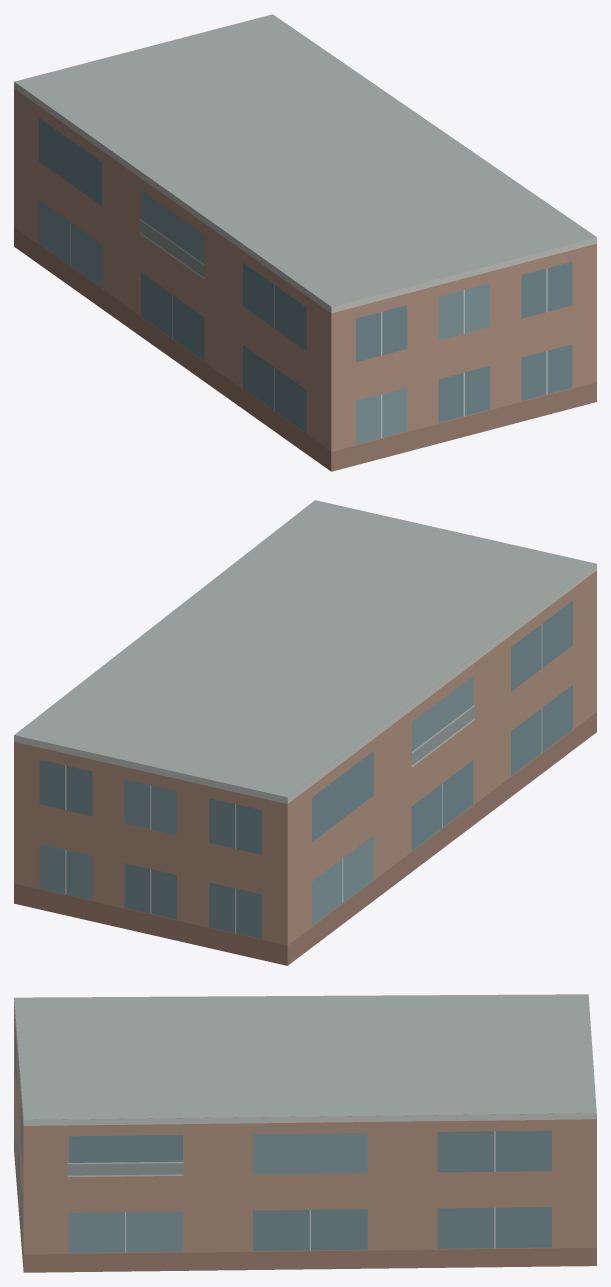
The model's file is survey-upis-32755730.glb.
The picture shows the model from 3 angles, top to bottom: view 1: azimuth 30°, elevation 25°; view 2: azimuth 150°, elevation 25°; view 3: azimuth 270°, elevation 25°; orthographic projection. The views are drawn at different scales.
Parts seen in each view (by area): view 1: survey-upis-32755730.tmp; view 2: survey-upis-32755730.tmp; view 3: survey-upis-32755730.tmp.
Part boxes in pixels (x1,y1,x2,y2): survey-upis-32755730.tmp: (14, 14, 596, 471); survey-upis-32755730.tmp: (14, 500, 596, 965); survey-upis-32755730.tmp: (14, 994, 596, 1272).
Size of the model in its own units: 10.77 by 6.1 by 21.1.
